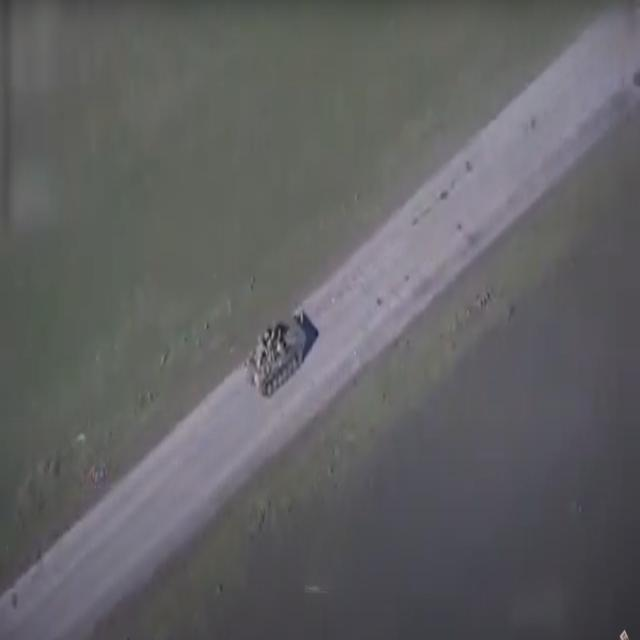AIFV: (244, 312, 310, 397)
